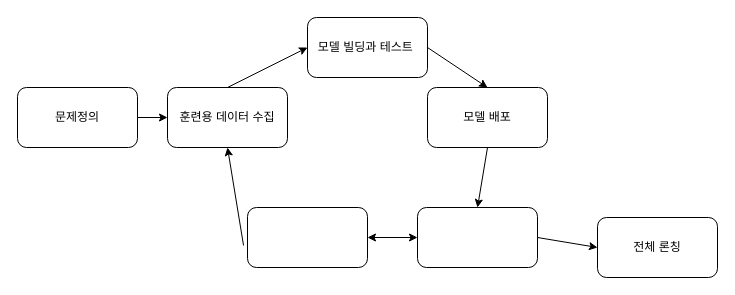
This 735x295 diagram has some shape labels left out. The shapes that lost their labels are listed below. From the top down, each one's box as (x1, y1, x2, y2) in pixels, then its label:
(246, 206, 368, 268): A/B 테스트 결과 분석
(416, 206, 538, 268): 모델 A/B 테스트
